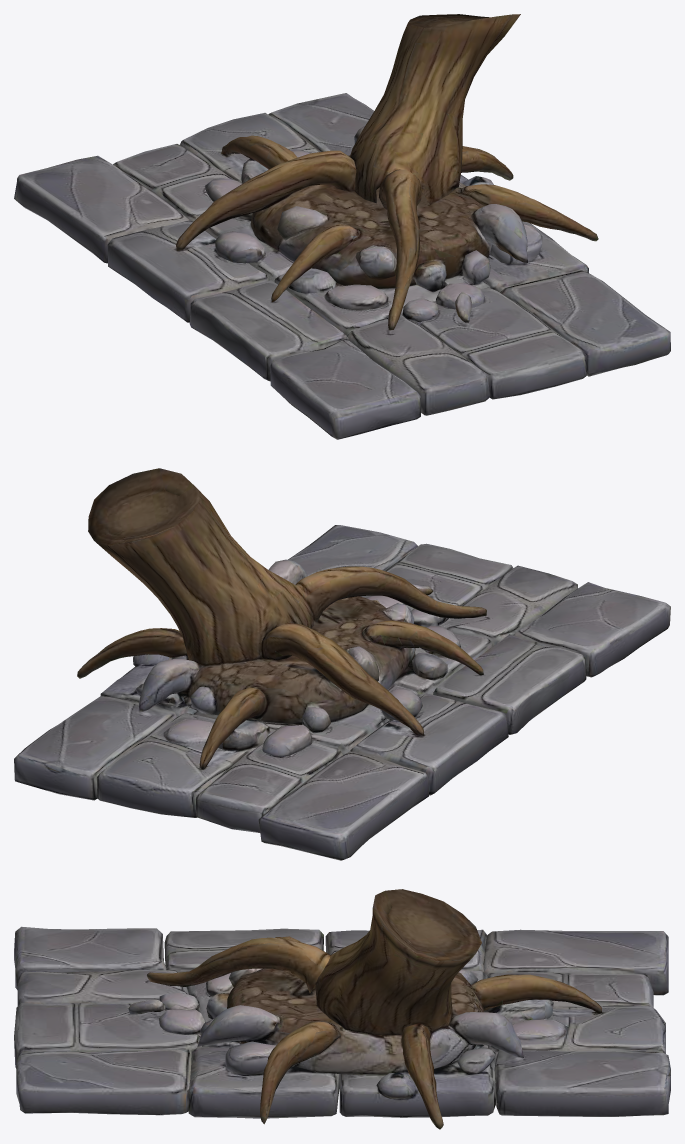
Rendered from jd_raiz.glb.
3 views of the same model, one above another, from view 1: azimuth 30°, elevation 25°; view 2: azimuth 150°, elevation 25°; view 3: azimuth 270°, elevation 25° (orthographic).
Parts seen in each view (by area): view 1: mesh_node; view 2: mesh_node; view 3: mesh_node.
Part boxes in pixels (left/top/right/bottom): mesh_node: left=14, top=14, right=670, bottom=439; mesh_node: left=14, top=468, right=670, bottom=860; mesh_node: left=14, top=889, right=670, bottom=1129.
Bounding box in the file's own units: 0.355 × 0.1865 × 0.5195.
Materials: 1 (1 with a texture image).
